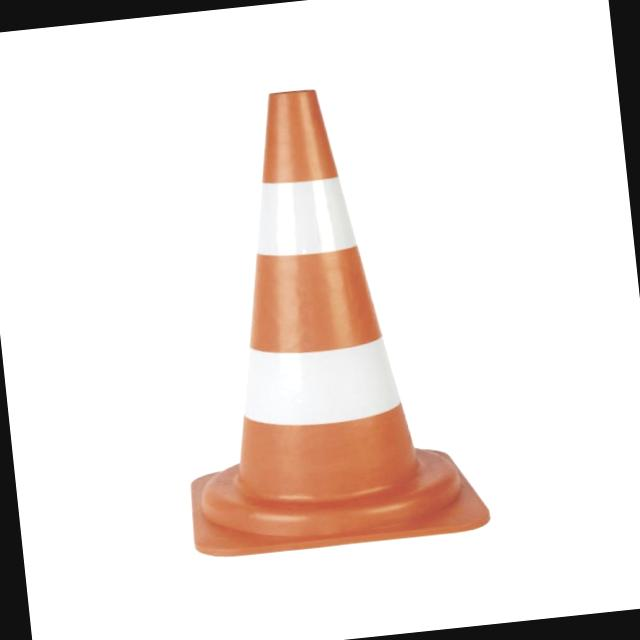cone: (122, 62, 532, 577)
